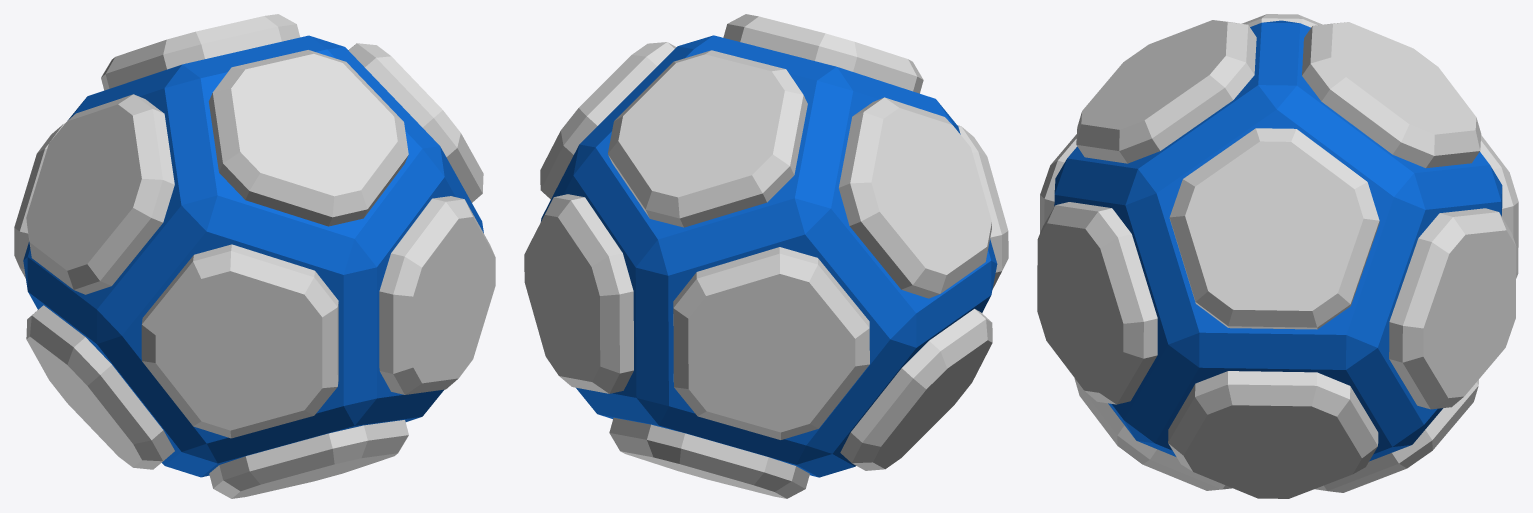
The model's file is PartyDice_d12.glb.
The picture shows the model from 3 angles, left to right: view 1: azimuth 30°, elevation 25°; view 2: azimuth 150°, elevation 25°; view 3: azimuth 270°, elevation 25°; orthographic projection.
Visible parts, largest first — view 1: d12; view 2: d12; view 3: d12.
Part boxes in pixels (x1,y1,x2,y2): d12: (14, 14, 495, 498); d12: (524, 14, 1008, 498); d12: (1037, 14, 1518, 498).
Size of the model in its own units: 172 by 171 by 172.
